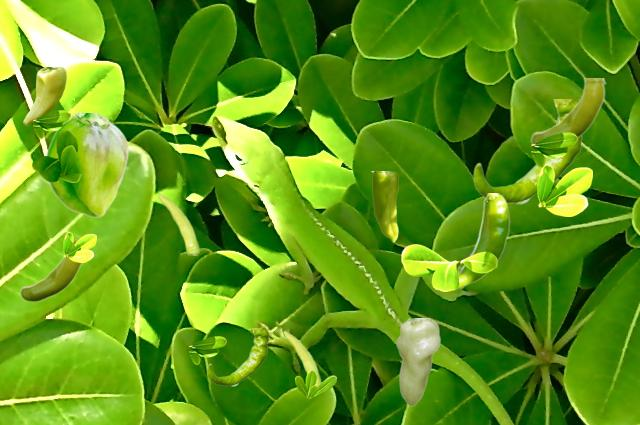green_chili: (473, 99, 582, 203), (45, 113, 128, 217), (530, 78, 605, 143), (458, 193, 509, 288), (19, 239, 83, 300), (396, 318, 439, 405), (207, 328, 268, 385), (158, 193, 198, 254), (23, 67, 65, 124), (283, 330, 320, 385), (371, 171, 397, 241)
